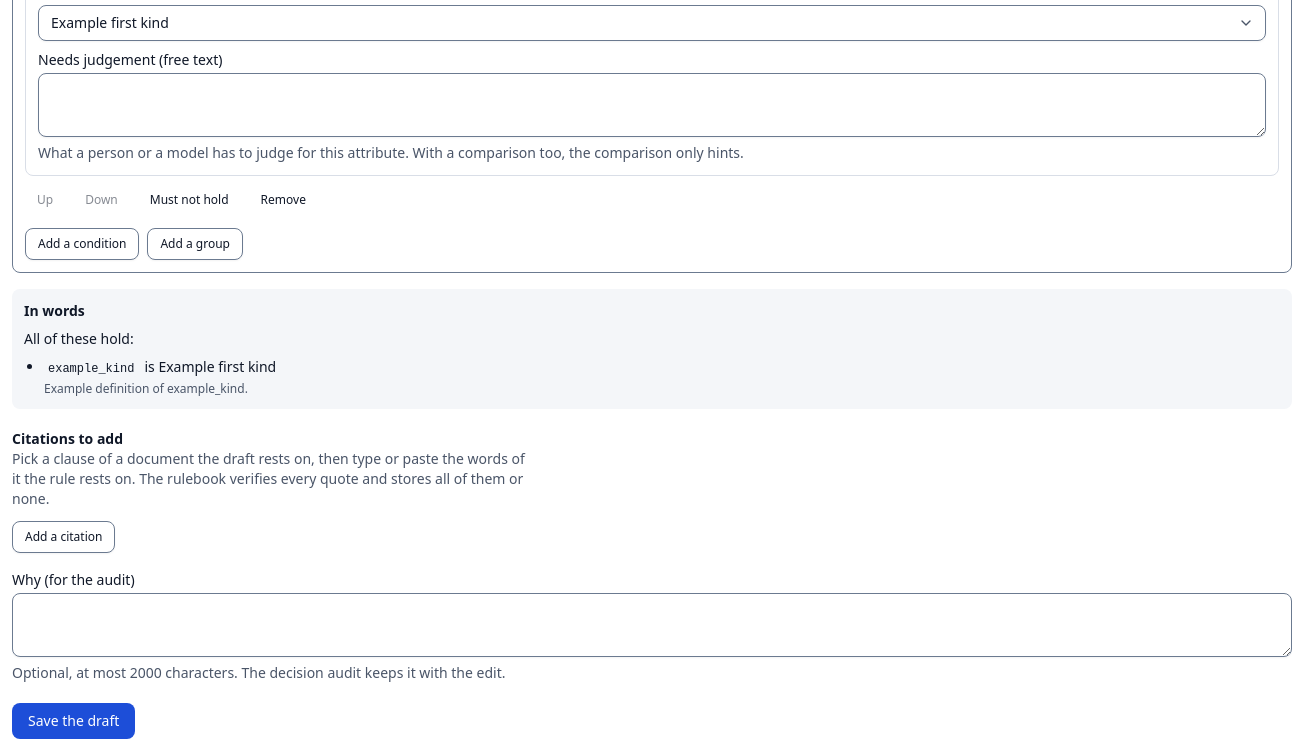
Test: EditPanel › shows the fields' refusals under them and the rest in the answer
(page scrolled)
Click the button "Save the draft".
click(74, 721)  # box [12, 703, 135, 739]
(page scrolled)
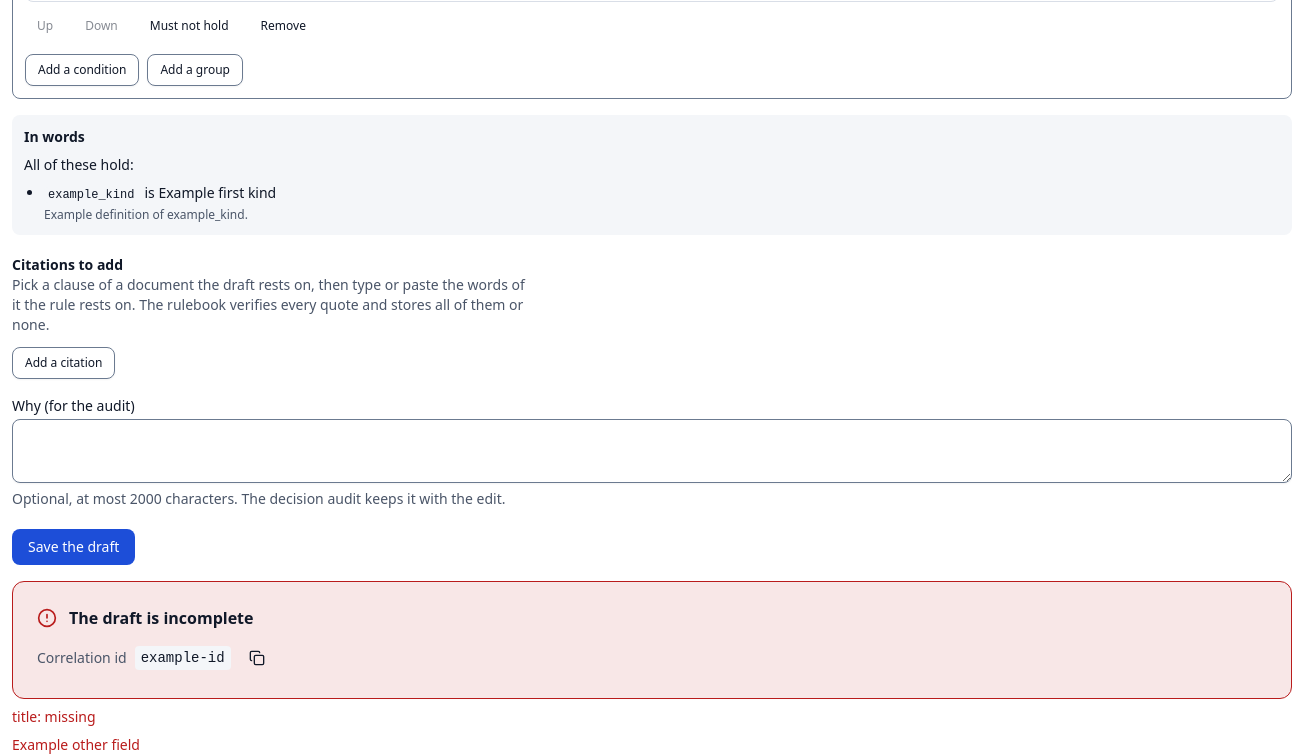
Result: the text "The draft is incomplete" is shown at [69, 607, 254, 629]
Result: the text "title: missing" is shown at [12, 707, 96, 726]
Result: the text "Example other field" is shown at [12, 735, 140, 754]
